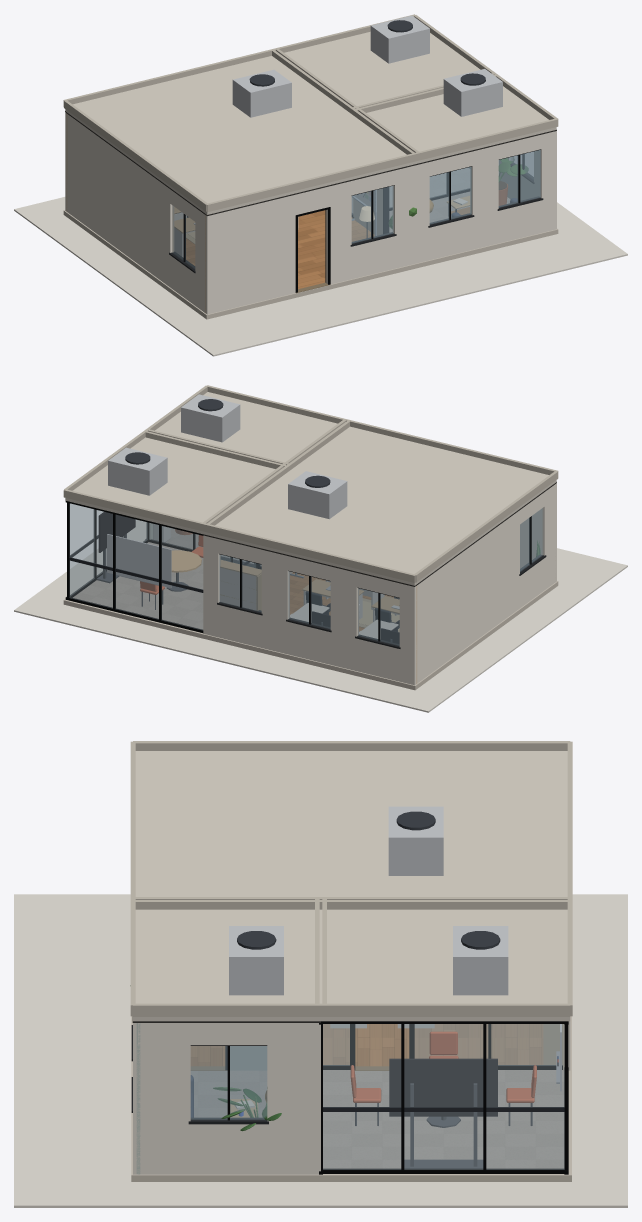
Rendered from agencia-criativa.glb.
3 views of the same model, one above another, from view 1: azimuth 30°, elevation 25°; view 2: azimuth 150°, elevation 25°; view 3: azimuth 270°, elevation 25° (orthographic). The views are drawn at different scales.
Visible parts, largest first — view 1: teto_malha, paredes_malha, terreno_malha, janelas_malha, laje_malha, esquadrias_malha, piso_madeira_malha, piso_carpete_malha, paredes_topo_malha, divisorias_vidro_malha, costela-adao_malha; view 2: teto_malha, paredes_malha, terreno_malha, divisorias_vidro_malha, janelas_malha, esquadrias_malha, piso_carpete_malha, laje_malha, quadro-parede_malha, estante_malha, tv-pedestal_malha, mesa-reuniao-redonda_malha (+2 smaller); view 3: teto_malha, terreno_malha, divisorias_vidro_malha, paredes_malha, piso_carpete_malha, esquadrias_malha, piso_madeira_malha, tv-pedestal_malha, janelas_malha, laje_malha, cadeira-reuniao_malha (×2), costela-adao_malha (+1 smaller).
Part boxes in pixels (left/top/right/bottom): teto_malha: left=63, top=14, right=558, bottom=214; paredes_malha: left=65, top=112, right=556, bottom=314; terreno_malha: left=14, top=197, right=627, bottom=356; janelas_malha: left=172, top=150, right=540, bottom=268; laje_malha: left=63, top=210, right=558, bottom=319; esquadrias_malha: left=169, top=149, right=543, bottom=292; piso_madeira_malha: left=186, top=210, right=374, bottom=289; piso_carpete_malha: left=352, top=168, right=510, bottom=232; paredes_topo_malha: left=65, top=111, right=556, bottom=215; divisorias_vidro_malha: left=352, top=167, right=469, bottom=213; costela-adao_malha: left=499, top=158, right=527, bottom=205; teto_malha: left=63, top=385, right=558, bottom=585; paredes_malha: left=149, top=483, right=556, bottom=685; terreno_malha: left=14, top=520, right=627, bottom=712; divisorias_vidro_malha: left=69, top=503, right=254, bottom=630; janelas_malha: left=219, top=508, right=542, bottom=645; esquadrias_malha: left=65, top=501, right=546, bottom=648; piso_carpete_malha: left=73, top=528, right=261, bottom=629; laje_malha: left=63, top=581, right=558, bottom=690; quadro-parede_malha: left=107, top=534, right=171, bottom=587; estante_malha: left=220, top=560, right=261, bottom=610; tv-pedestal_malha: left=96, top=512, right=135, bottom=583; mesa-reuniao-redonda_malha: left=167, top=550, right=201, bottom=591; teto_malha: left=130, top=741, right=572, bottom=1021; terreno_malha: left=14, top=894, right=627, bottom=1207; divisorias_vidro_malha: left=323, top=1024, right=564, bottom=1169; paredes_malha: left=133, top=1021, right=570, bottom=1174; piso_carpete_malha: left=191, top=1070, right=564, bottom=1168; esquadrias_malha: left=131, top=1021, right=568, bottom=1174; piso_madeira_malha: left=191, top=1024, right=542, bottom=1066; tv-pedestal_malha: left=389, top=1058, right=497, bottom=1168; janelas_malha: left=190, top=1046, right=267, bottom=1119; laje_malha: left=131, top=1016, right=571, bottom=1181; cadeira-reuniao_malha (×2): left=429, top=1031, right=536, bottom=1125; costela-adao_malha: left=213, top=1087, right=281, bottom=1131.
Size of the model in its own units: 12 by 3.81 by 10.
Materials: 20 (4 with a texture image).
